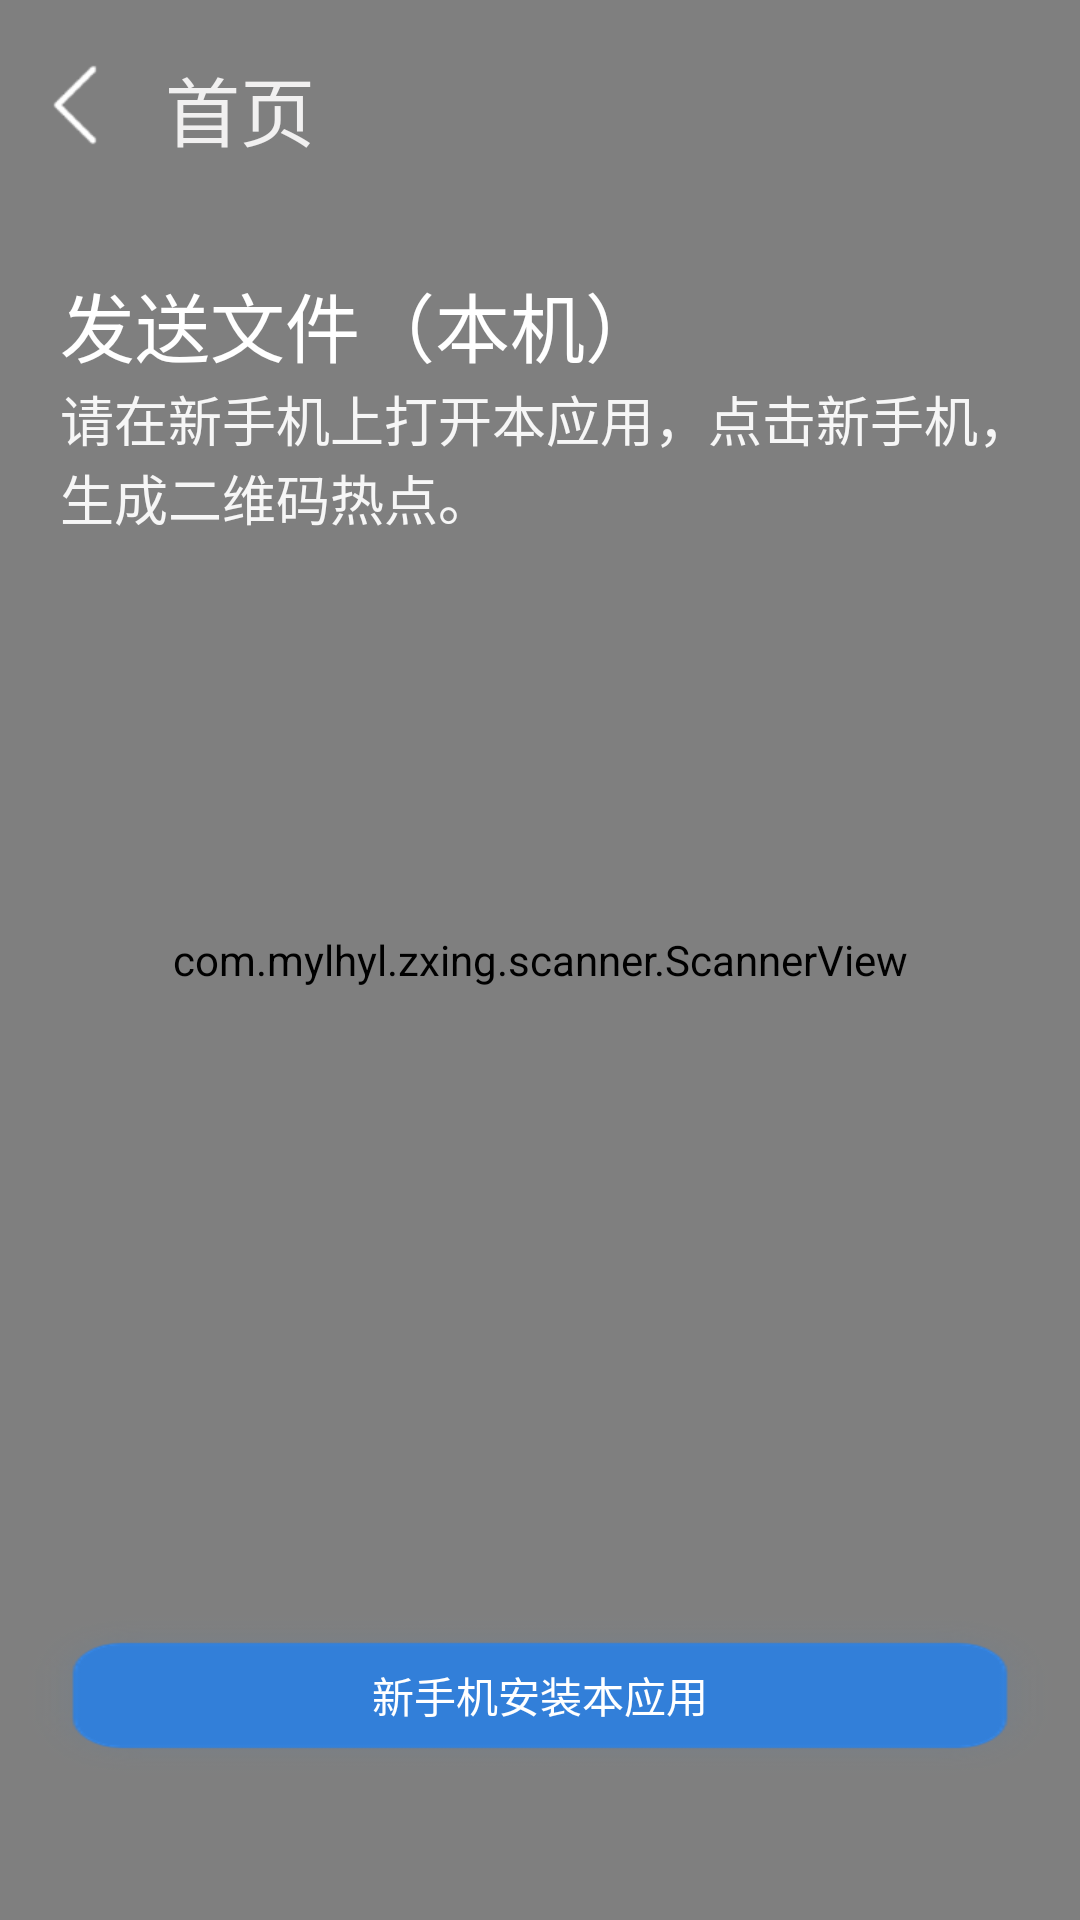

Point at icon controls on the screen. Image size 1080px×1920px, points as (x,y).
topbar leftbtn: (75,105)
